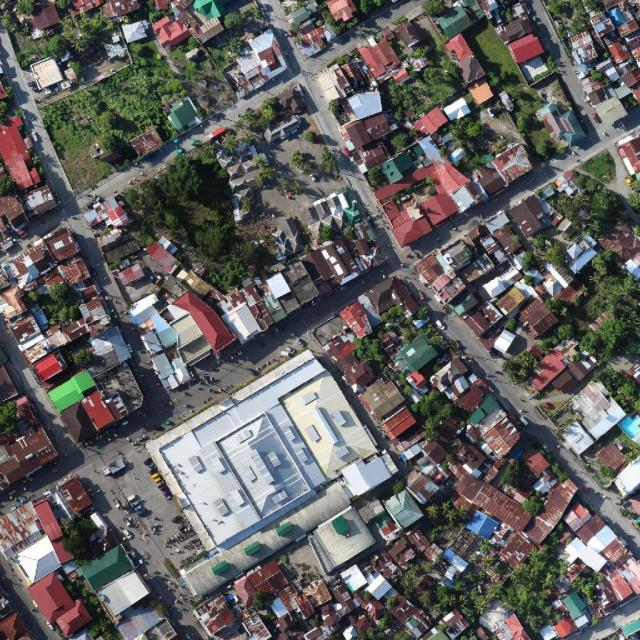building: (64, 88, 388, 391), (417, 97, 640, 518), (0, 227, 146, 446), (0, 479, 183, 640), (0, 50, 60, 244), (265, 0, 407, 72), (0, 357, 64, 490)
greenland: (46, 30, 233, 171), (543, 244, 640, 408)
